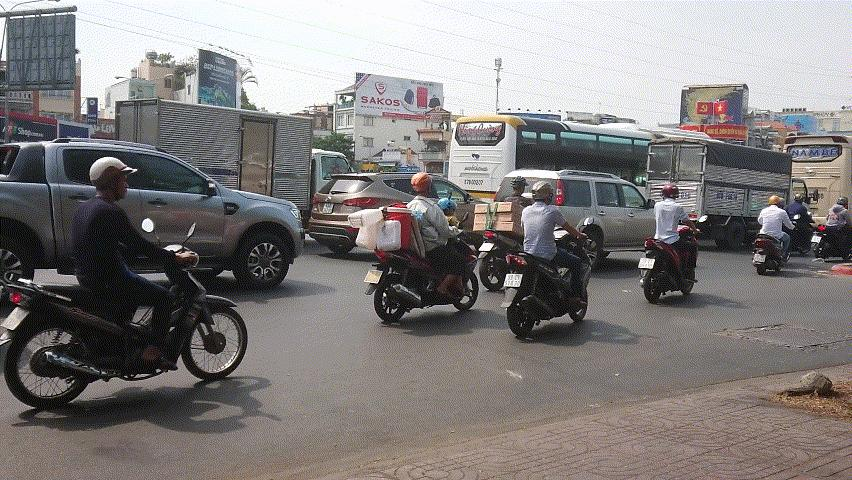driver: (1, 156, 249, 411), (348, 171, 480, 323), (499, 180, 596, 339), (638, 184, 707, 303), (473, 175, 532, 291), (751, 195, 801, 275), (811, 197, 852, 262)
helmet: (88, 158, 141, 203), (410, 172, 433, 196), (530, 181, 553, 205), (510, 175, 530, 196), (437, 197, 457, 217), (660, 184, 679, 201), (768, 195, 780, 206), (793, 193, 805, 204), (837, 197, 848, 207)
